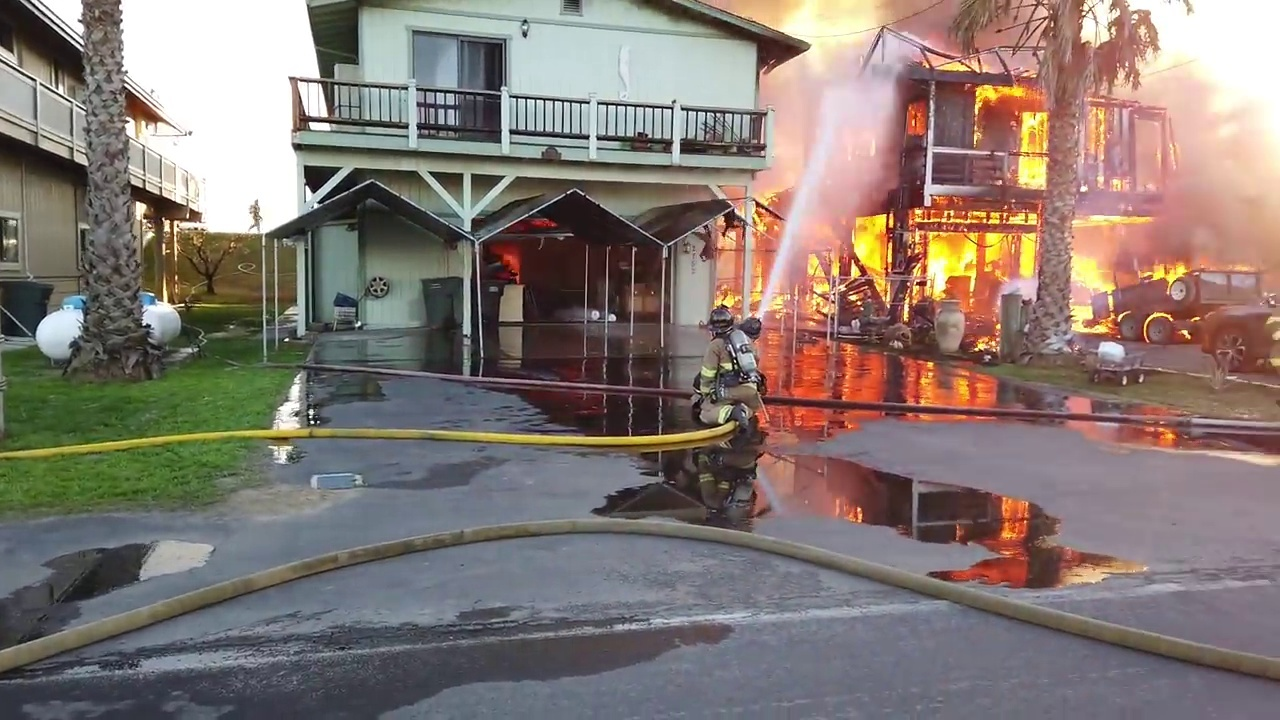fire: (853, 213, 1184, 353), (719, 192, 763, 315), (962, 79, 1049, 139), (799, 250, 852, 331), (1012, 104, 1054, 187), (932, 50, 986, 73), (903, 95, 929, 142)
smoke: (1132, 2, 1279, 272), (805, 1, 1049, 48), (768, 58, 804, 179), (748, 3, 803, 33)
